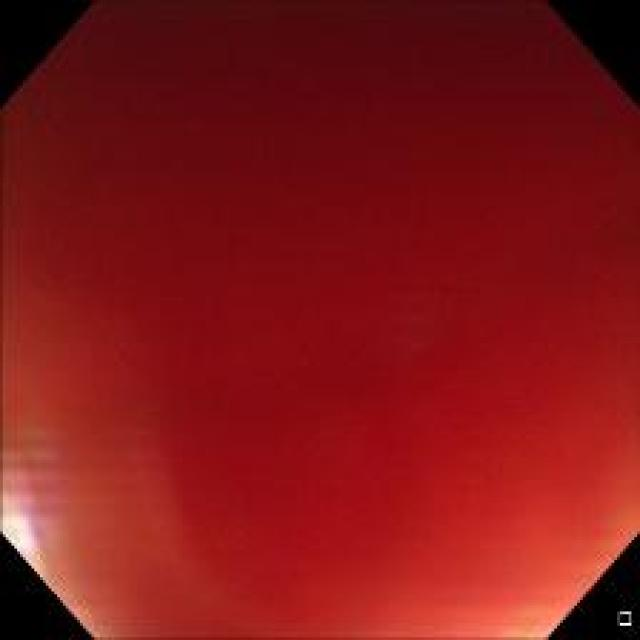color misalignment: (9, 4, 634, 631)
